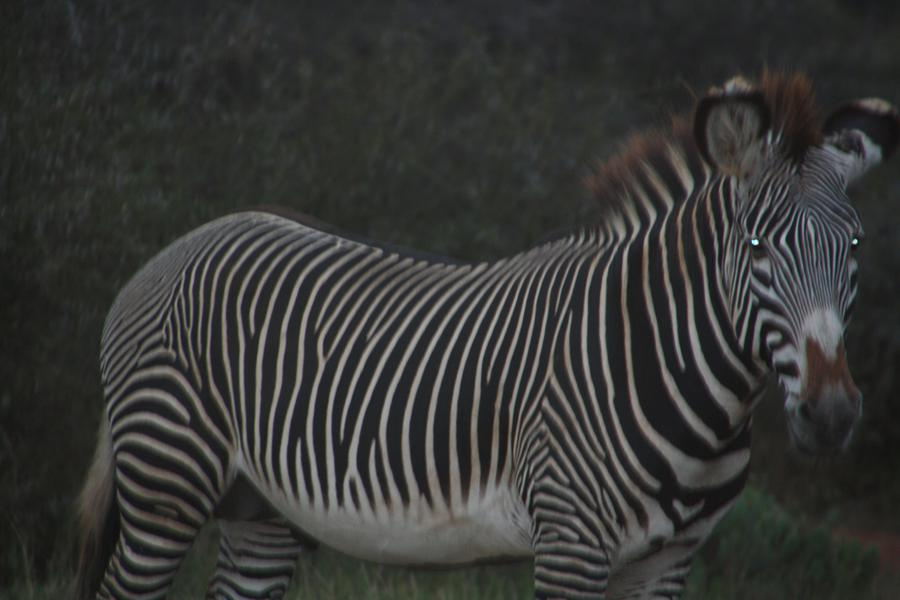zebra_grevys: (99, 161, 653, 553)
